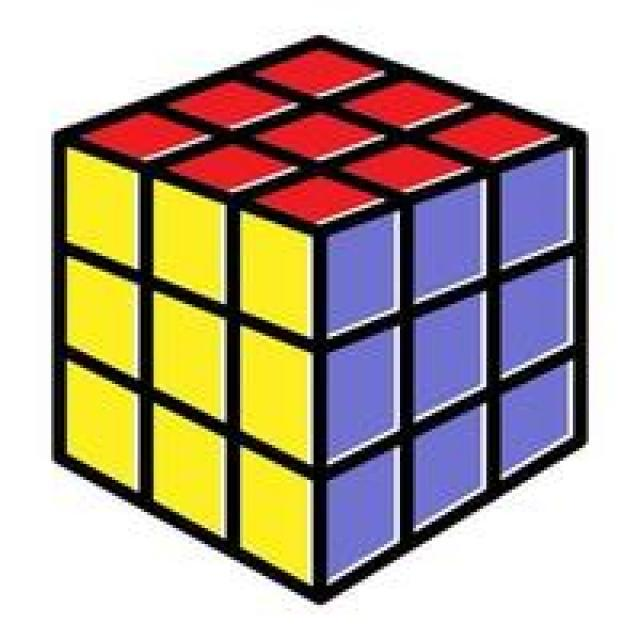Rub: (44, 24, 587, 606)
